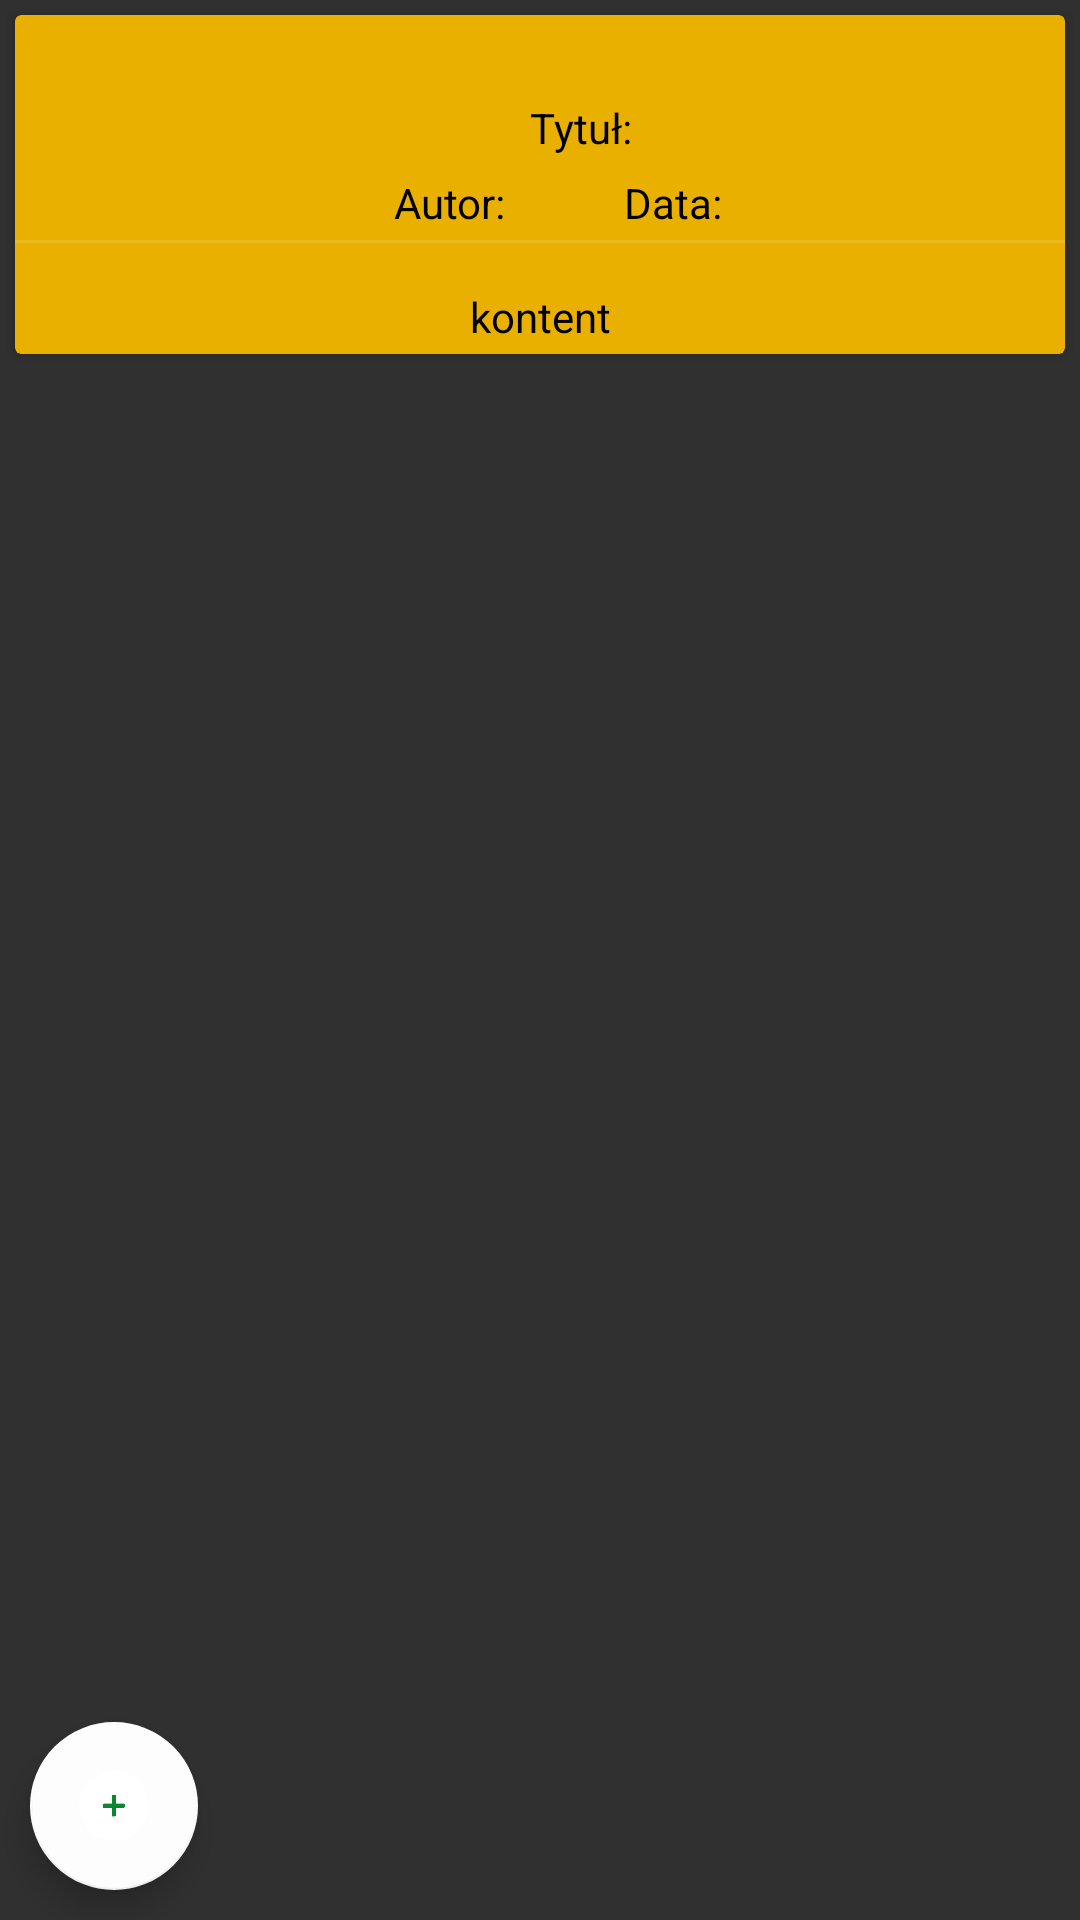

Screen size 1080 × 1920. Icon name, then its center in pixels as point (x, y):
add child: point (114, 1806)
